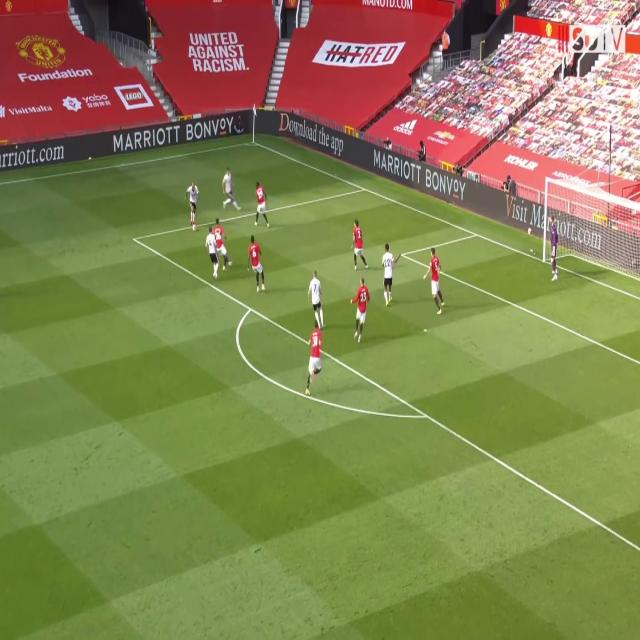Ball: (192, 222, 196, 233)
GoalKeeper: (545, 218, 561, 282)
TEAM 1: (424, 250, 448, 315), (308, 327, 325, 398), (353, 278, 371, 342), (247, 237, 265, 293), (216, 214, 231, 276), (353, 221, 368, 269), (256, 184, 270, 227)
TEAM 2: (307, 272, 324, 331), (382, 244, 397, 307), (222, 170, 238, 212), (186, 181, 200, 225)
